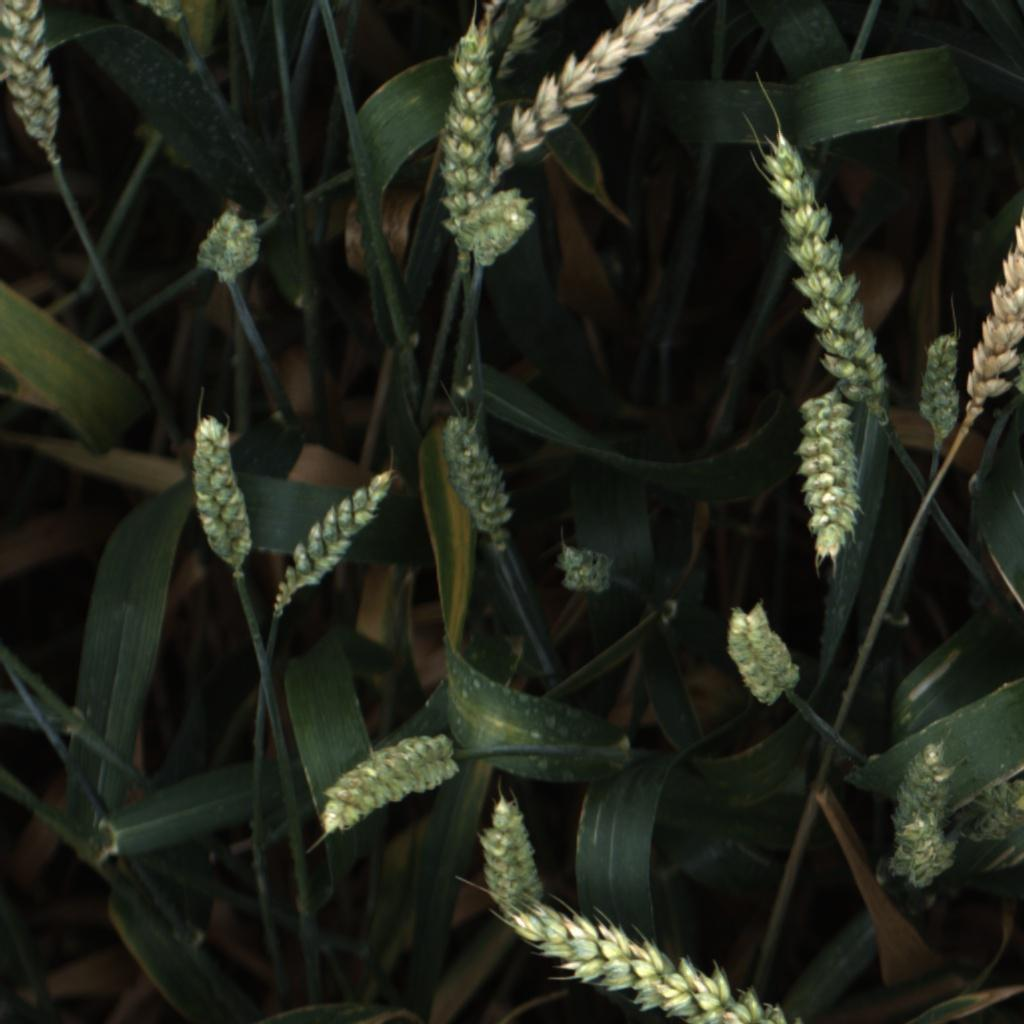0-0: (758, 129, 914, 421), (483, 0, 719, 187), (504, 893, 829, 1024), (271, 463, 409, 602), (310, 730, 459, 845), (437, 4, 503, 256), (963, 206, 1024, 430), (2, 1, 80, 173), (792, 385, 867, 562), (185, 408, 260, 577), (433, 402, 516, 539), (719, 607, 806, 711), (470, 788, 541, 915), (476, 0, 570, 83), (885, 810, 962, 900), (460, 185, 539, 269), (913, 327, 967, 446), (890, 734, 956, 824), (196, 205, 265, 282), (969, 768, 1024, 843), (556, 534, 619, 593), (136, 0, 188, 26), (1008, 350, 1024, 398)
